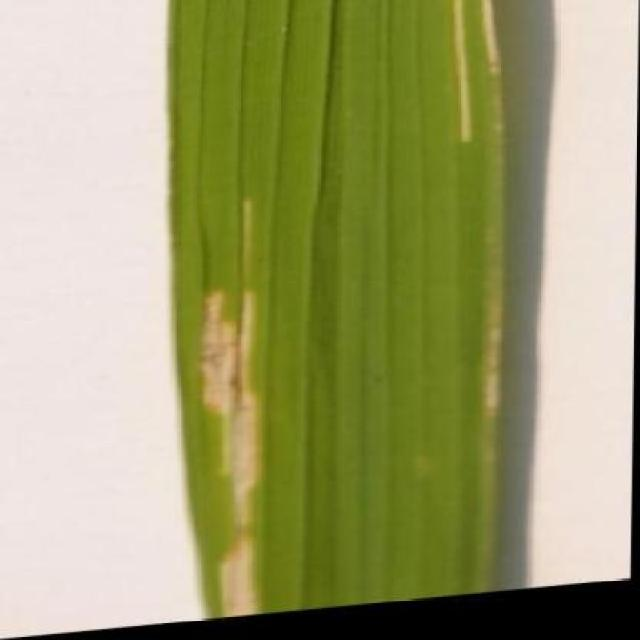Brown_Spot: (165, 0, 520, 628)
